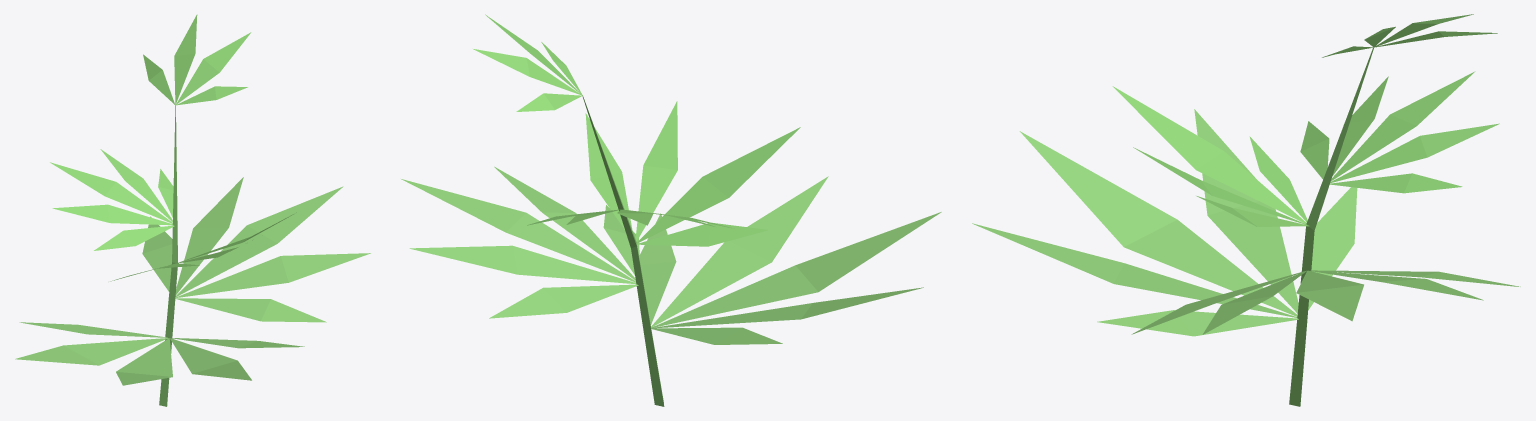
Rendered from Plant_i_TwoS_03.fbx.
3 renders of one model, left to right at view 1: azimuth 30°, elevation 25°; view 2: azimuth 150°, elevation 25°; view 3: azimuth 270°, elevation 25°, orthographic. The views are drawn at different scales.
Parts seen in each view (by area): view 1: Plant_i_TwoS_03; view 2: Plant_i_TwoS_03; view 3: Plant_i_TwoS_03.
Boxes of the visible parts, x1=… form: Plant_i_TwoS_03: x1=15, y1=14, x2=370, y2=406; Plant_i_TwoS_03: x1=401, y1=14, x2=941, y2=406; Plant_i_TwoS_03: x1=972, y1=14, x2=1520, y2=406.
Bounding box in the file's own units: 42.52 × 33.97 × 37.08.
